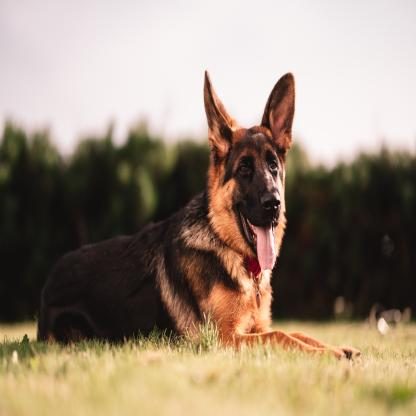dog: (41, 64, 365, 359)
